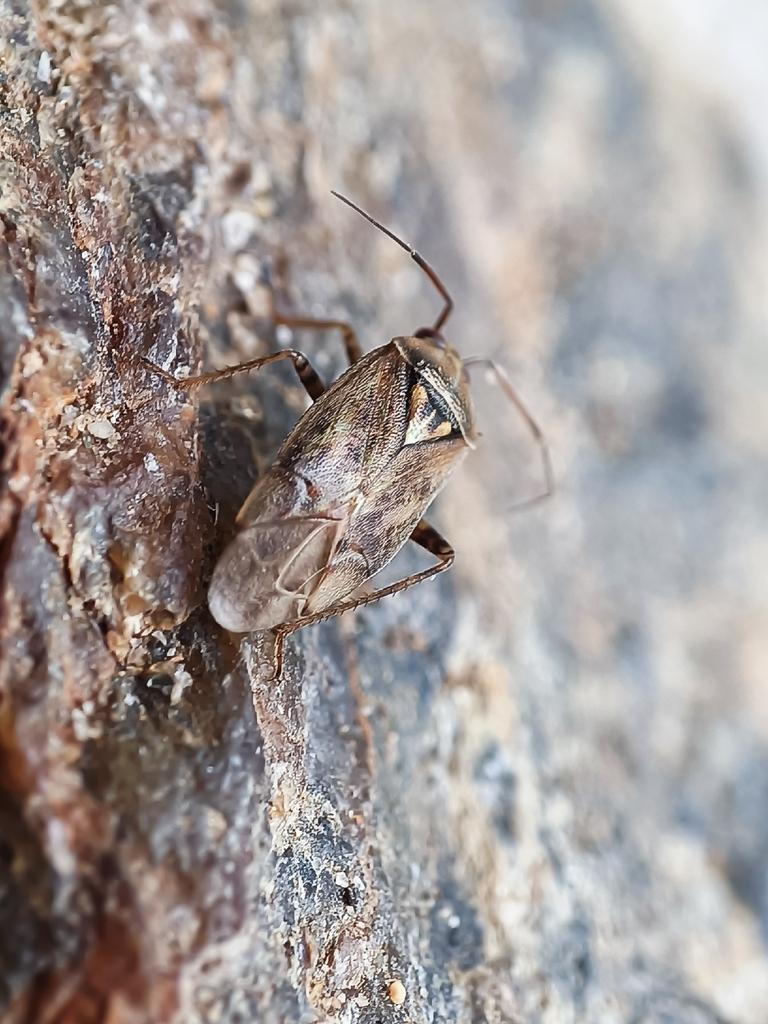plant_bugs: (1, 136, 666, 774)
